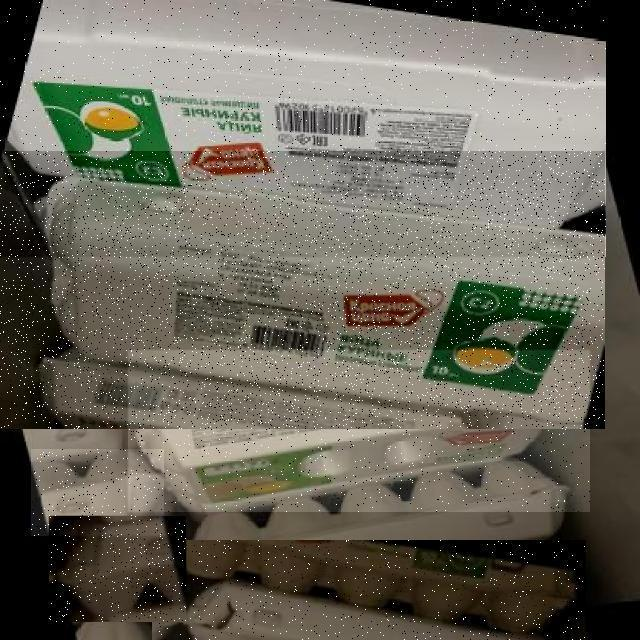Eggs: (0, 151, 605, 429), (0, 0, 606, 257), (128, 350, 590, 512), (152, 540, 586, 640), (49, 516, 186, 622), (31, 449, 164, 536)
